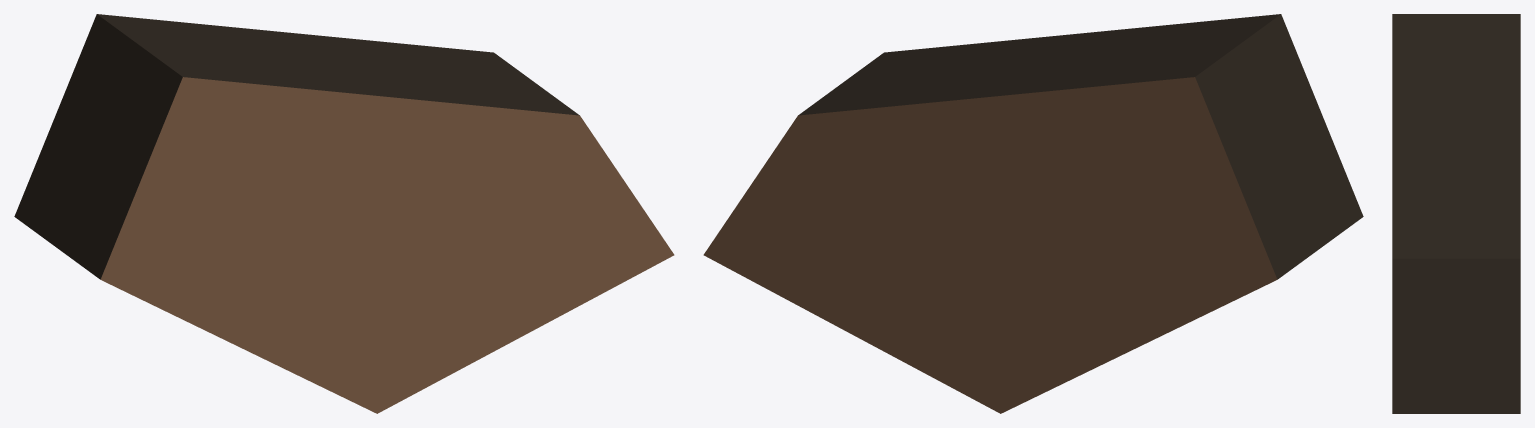
The model's file is SM_DoorShard_03_23.fbx.
The picture shows the model from 3 angles, left to right: view 1: azimuth 30°, elevation 25°; view 2: azimuth 150°, elevation 25°; view 3: azimuth 270°, elevation 25°; orthographic projection. The views are drawn at different scales.
Parts seen in each view (by area): view 1: SM_DoorShard_03_23; view 2: SM_DoorShard_03_23; view 3: SM_DoorShard_03_23.
Boxes of the visible parts, <box> form: SM_DoorShard_03_23: <box>14,14,674,413</box>; SM_DoorShard_03_23: <box>703,14,1363,413</box>; SM_DoorShard_03_23: <box>1392,14,1520,413</box>.
Bounding box in the file's own units: 61.57 × 16 × 39.39.
